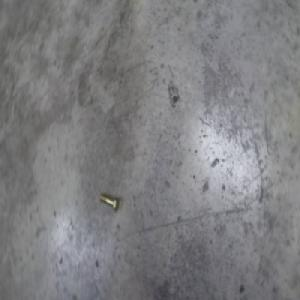Bolt: (100, 186, 120, 209)
